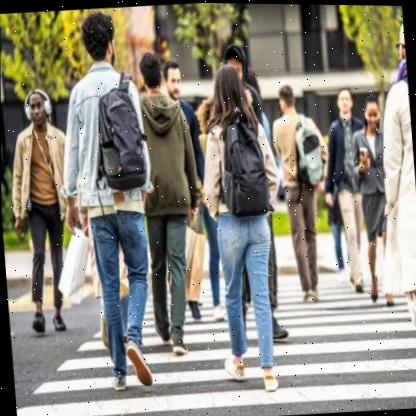person: (50, 7, 168, 399), (196, 62, 292, 396), (131, 45, 209, 368), (1, 80, 84, 340), (261, 80, 342, 312), (364, 18, 416, 336), (321, 80, 376, 301), (350, 88, 404, 307), (157, 52, 197, 115), (220, 40, 249, 90)
